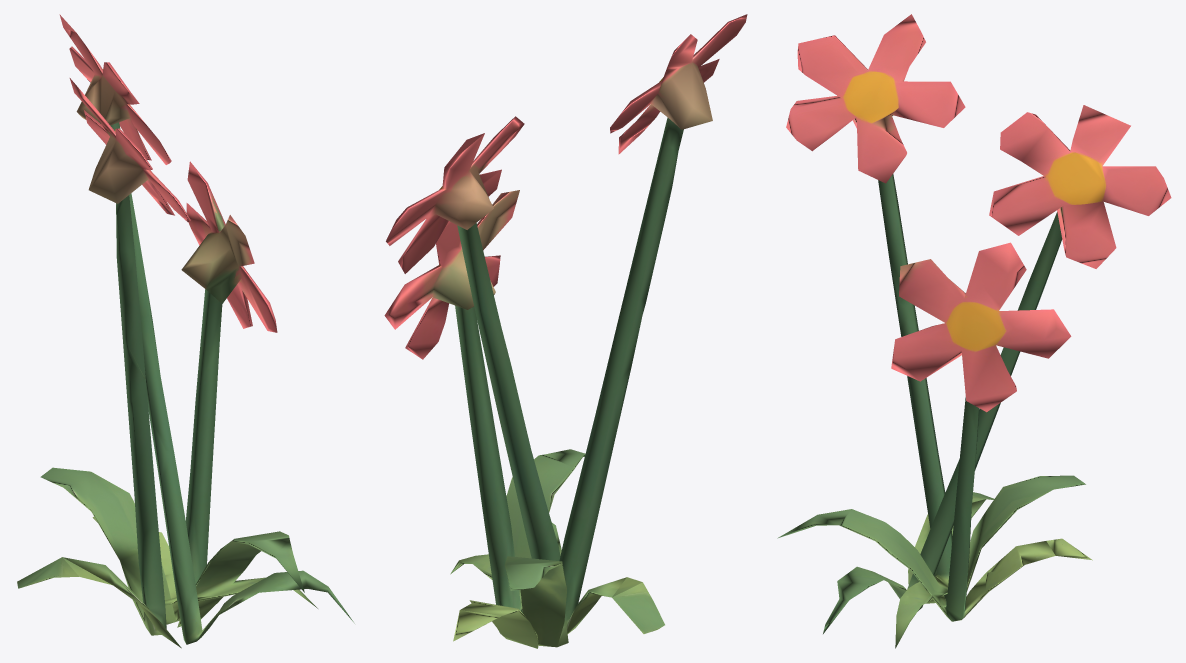
Rendered from flower.glb.
3 views of the same model, side by side, from view 1: azimuth 30°, elevation 25°; view 2: azimuth 150°, elevation 25°; view 3: azimuth 270°, elevation 25° (orthographic). The views are drawn at different scales.
Parts seen in each view (by area): view 1: tripo_node_408badff-4e62-4793-9787-e30b81e1b126; view 2: tripo_node_408badff-4e62-4793-9787-e30b81e1b126; view 3: tripo_node_408badff-4e62-4793-9787-e30b81e1b126.
Boxes of the visible parts, <box> form: tripo_node_408badff-4e62-4793-9787-e30b81e1b126: <box>17,14,354,648</box>; tripo_node_408badff-4e62-4793-9787-e30b81e1b126: <box>384,14,747,648</box>; tripo_node_408badff-4e62-4793-9787-e30b81e1b126: <box>777,14,1171,648</box>.
Bounding box in the file's own units: 0.4432 × 1 × 0.6605.
1 material, 1 textured.
